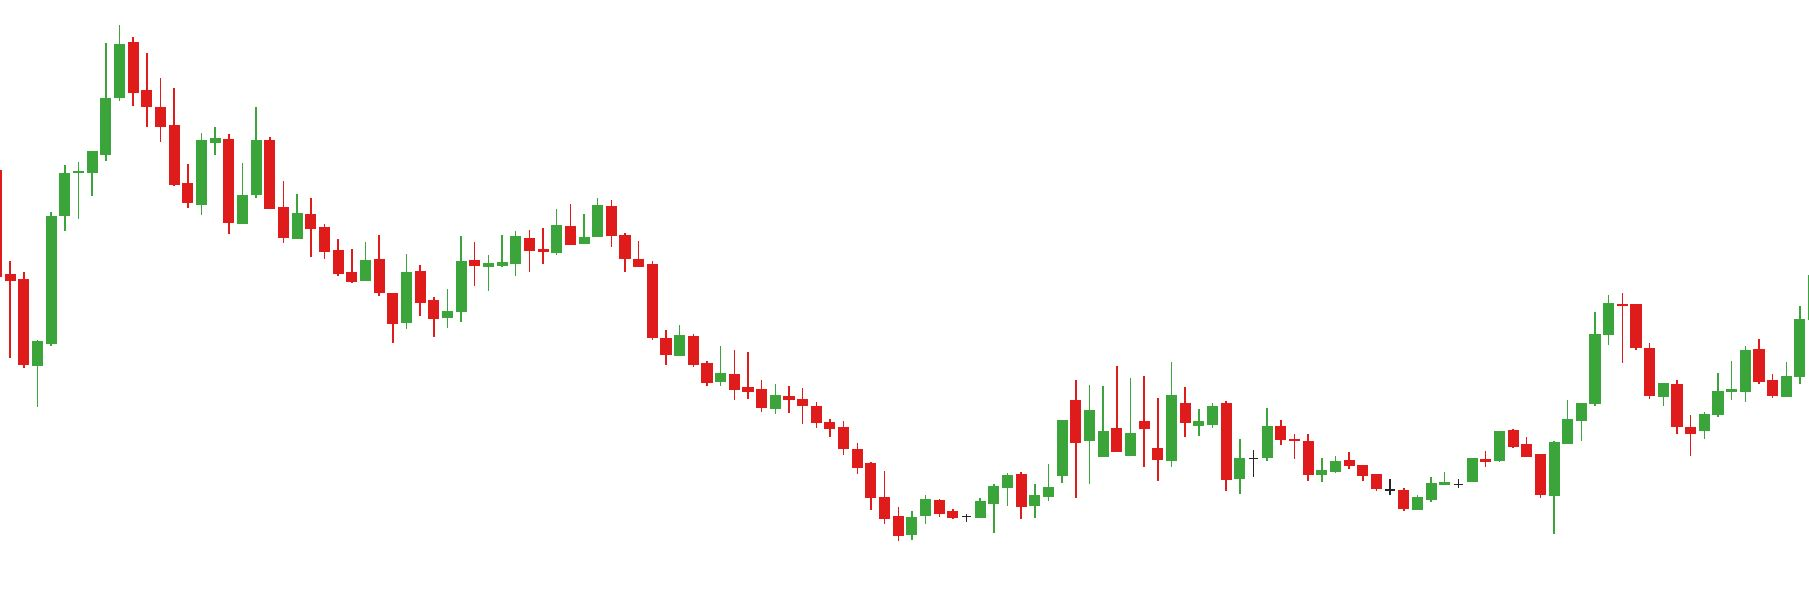buy: (1395, 445, 1563, 540)
